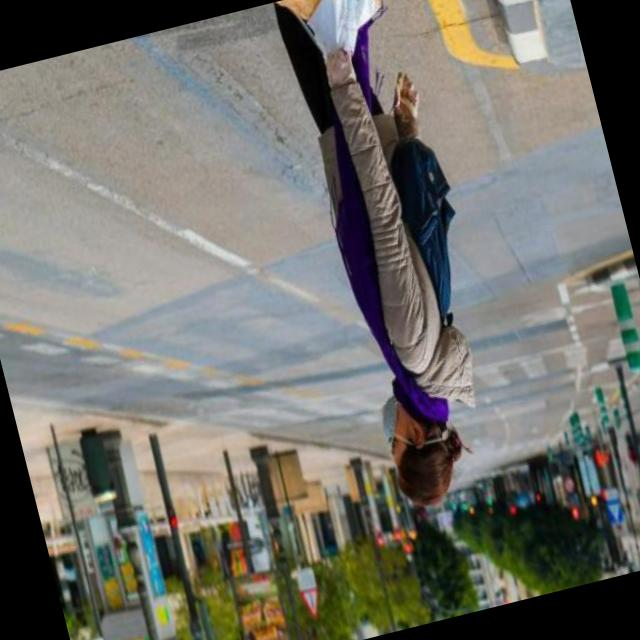person: (217, 0, 539, 539)
